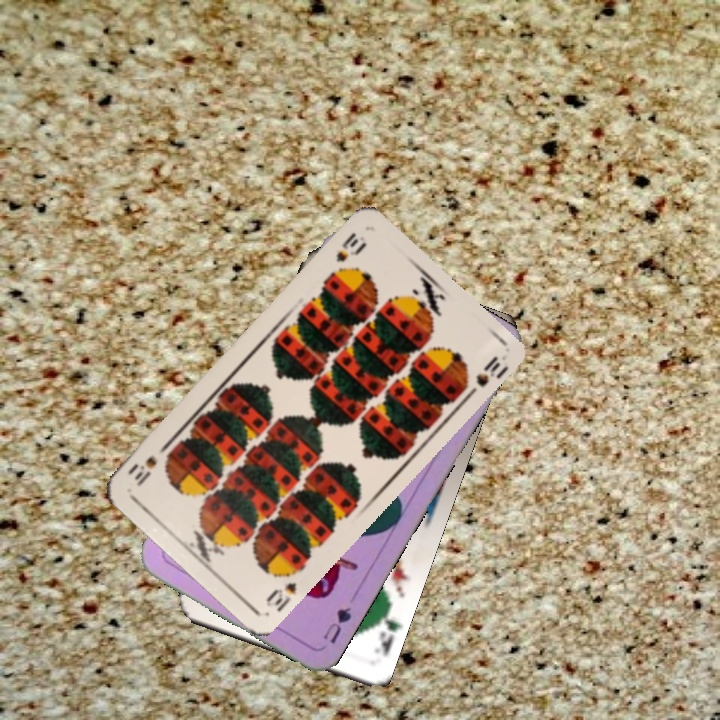GK: (369, 606, 402, 659)
GU: (319, 603, 354, 647)
S10: (262, 565, 304, 614), (332, 228, 368, 265)
